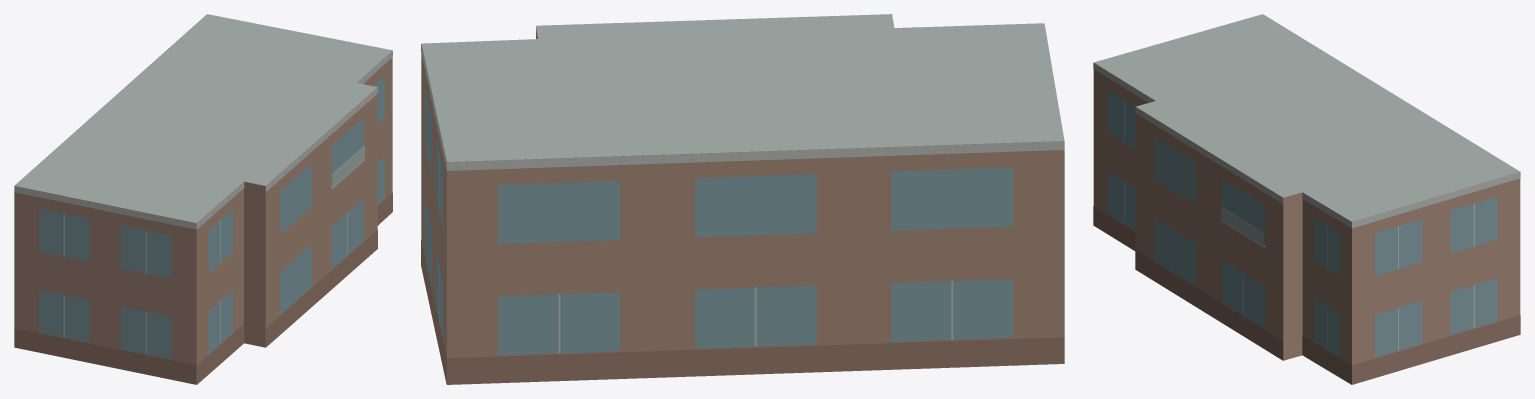
Rendered from survey-upis-32827811.glb.
3 views of the same model, side by side, from view 1: azimuth 30°, elevation 25°; view 2: azimuth 150°, elevation 25°; view 3: azimuth 270°, elevation 25° (orthographic). The views are drawn at different scales.
Visible parts, largest first — view 1: survey-upis-32827811.tmp; view 2: survey-upis-32827811.tmp; view 3: survey-upis-32827811.tmp.
Boxes of the visible parts, x1=… form: survey-upis-32827811.tmp: x1=14, y1=14, x2=392, y2=384; survey-upis-32827811.tmp: x1=421, y1=14, x2=1064, y2=384; survey-upis-32827811.tmp: x1=1093, y1=14, x2=1520, y2=384.
Bounding box in the file's own units: 16.7 × 6.1 × 14.49.
